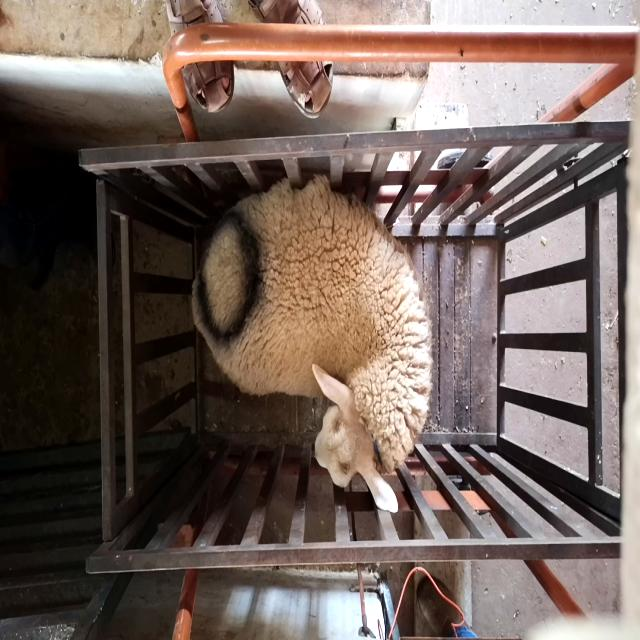sheep: (190, 176, 433, 512)
